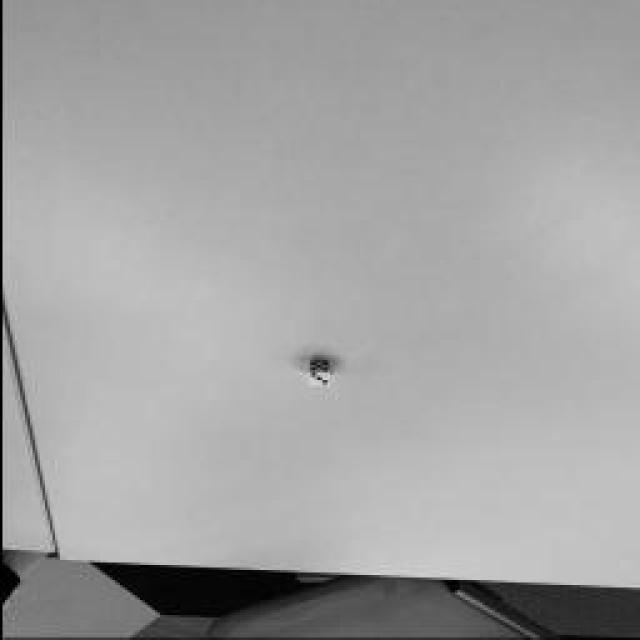dice_3: (308, 374, 328, 386)
